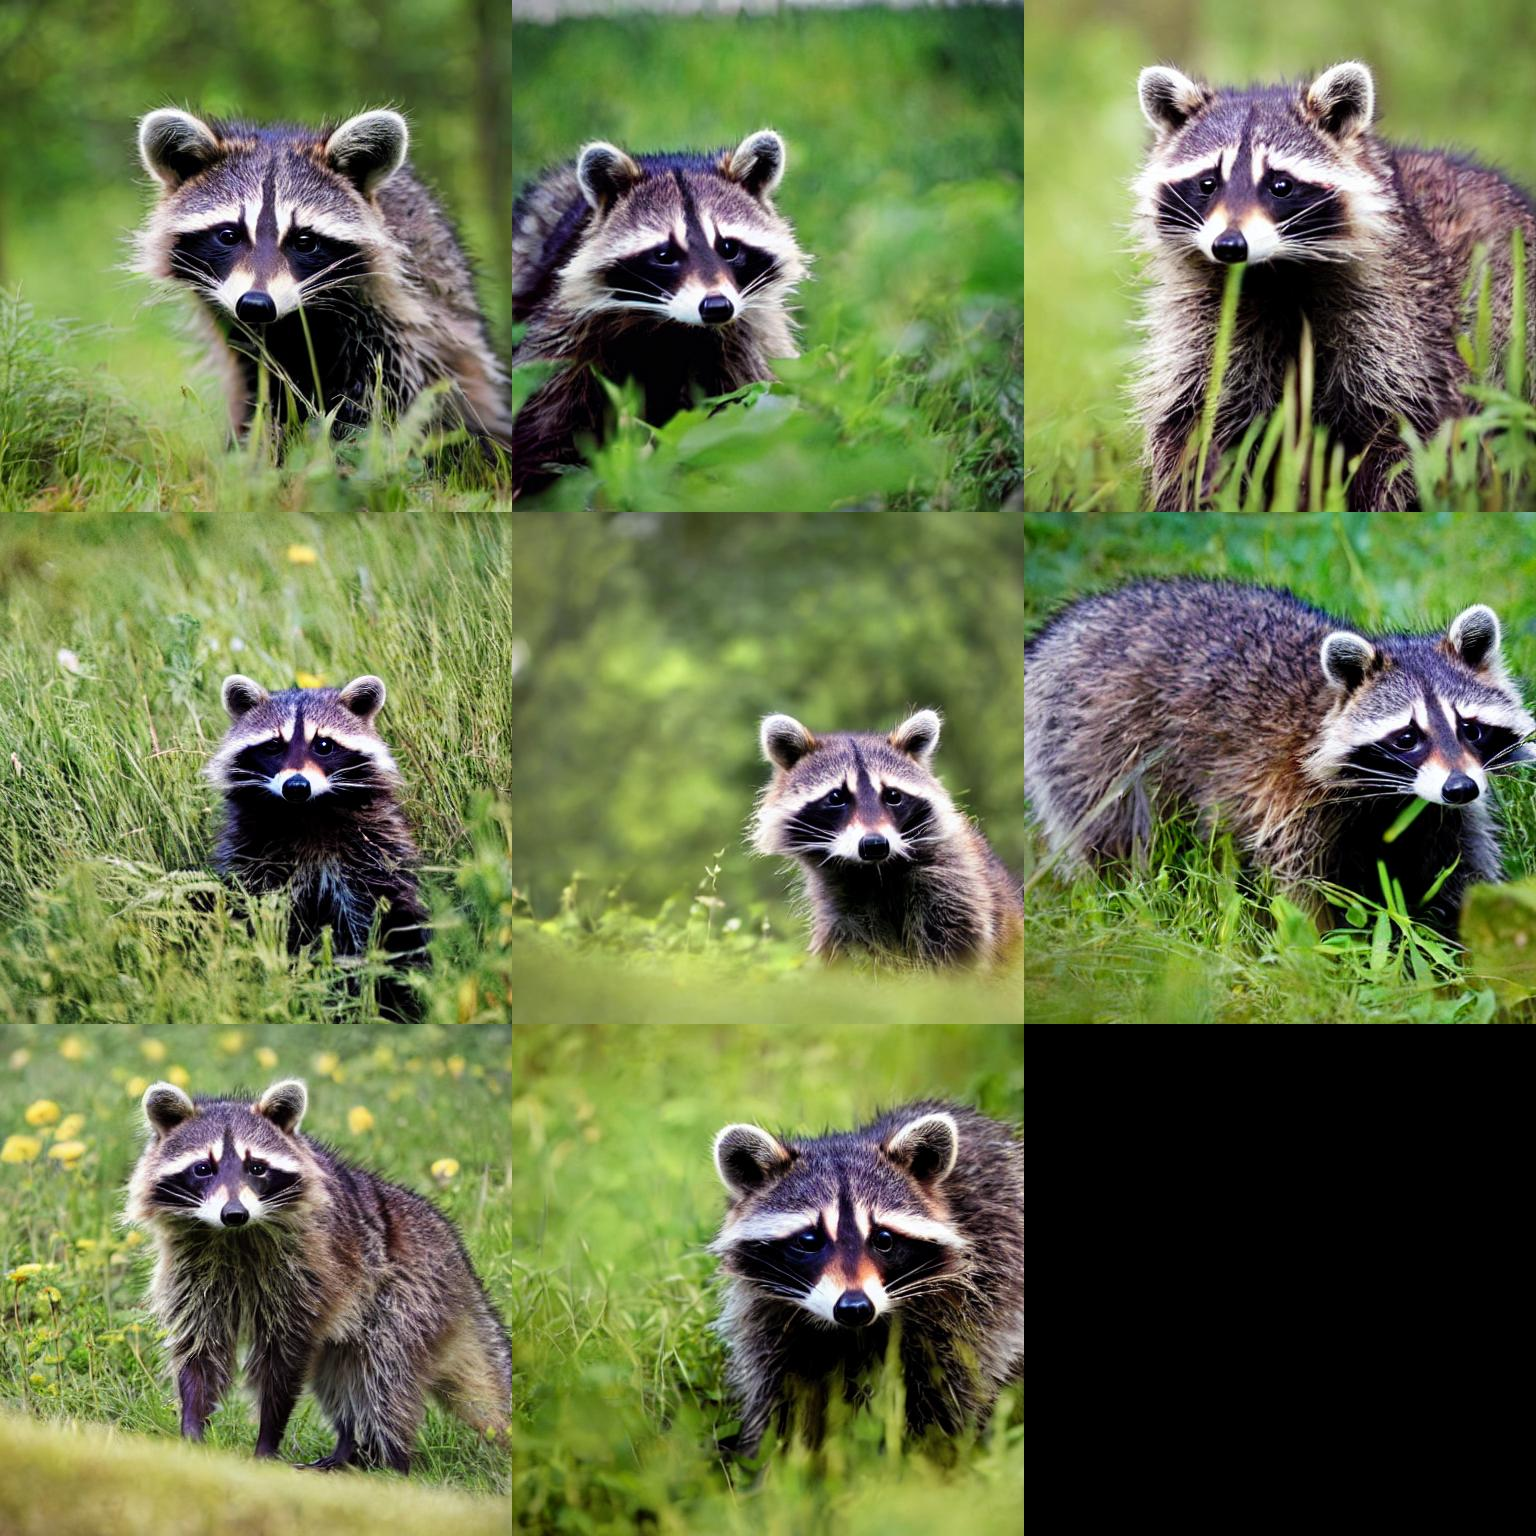raccoon: (1025, 560, 1536, 959), (1115, 51, 1536, 475), (115, 1070, 512, 1485), (110, 83, 511, 488), (691, 1093, 1025, 1512), (508, 115, 810, 482), (177, 657, 463, 1017), (737, 695, 1017, 978)
